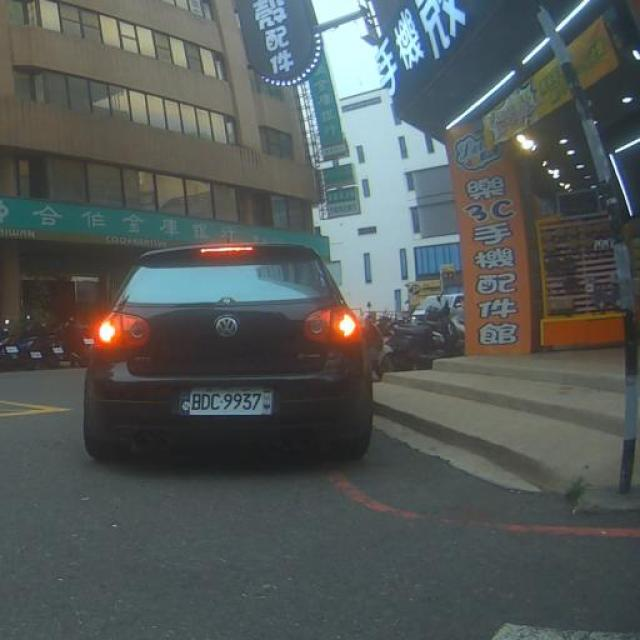Legalparking: (373, 286, 467, 382), (0, 304, 94, 372)
illegalparking: (84, 244, 371, 460)
